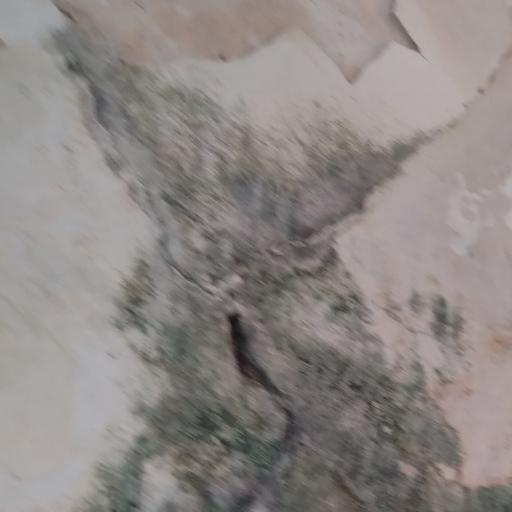algae: (79, 66, 460, 512)
